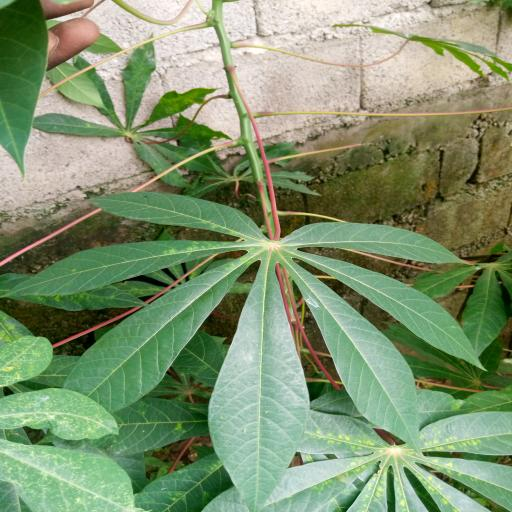Cassava_Healthy: (23, 190, 454, 489)
Cassava_Mosaic: (3, 334, 137, 512)
